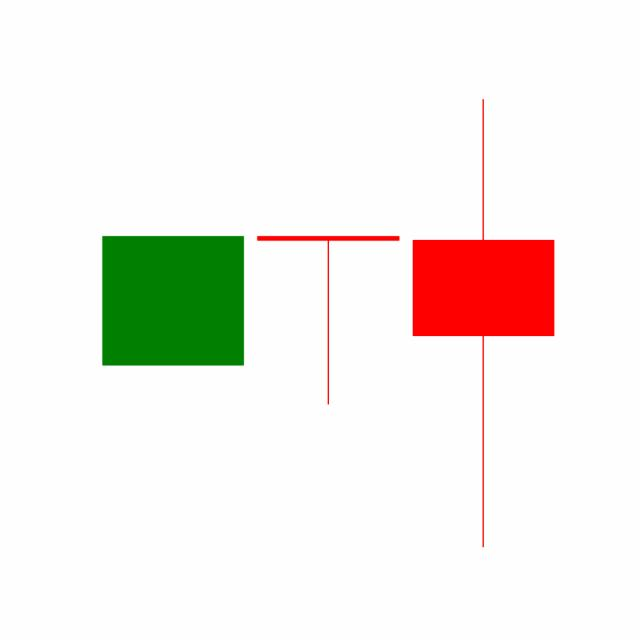Hanging Man: (249, 233, 406, 406)
